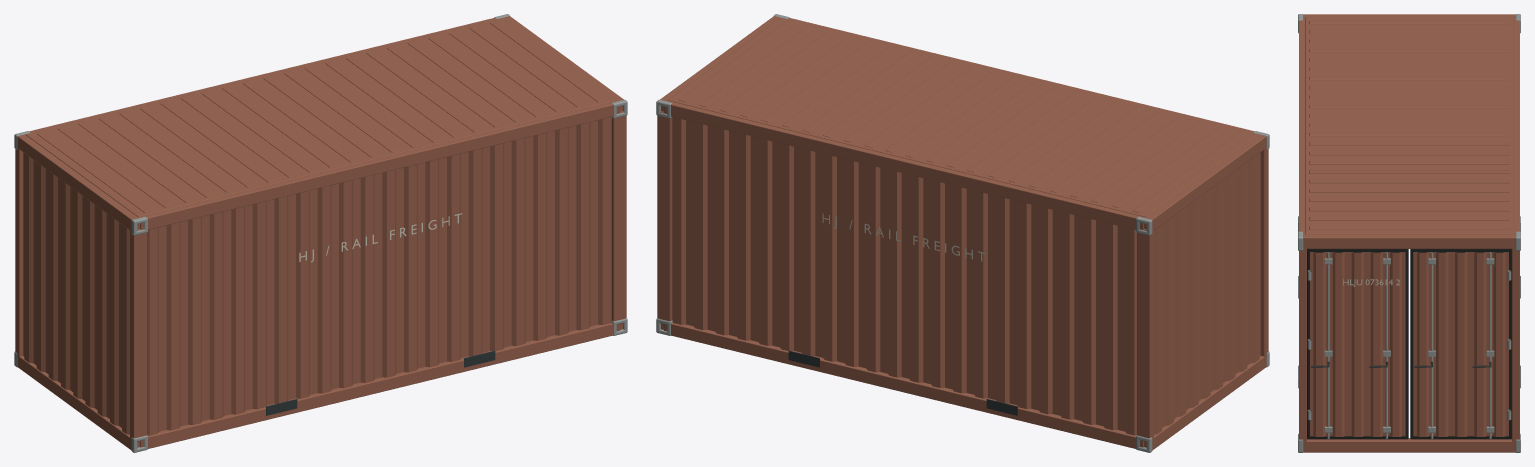
The model's file is freight_container.glb.
3 views of the same model, side by side, from view 1: azimuth 30°, elevation 25°; view 2: azimuth 150°, elevation 25°; view 3: azimuth 270°, elevation 25° (orthographic). The views are drawn at different scales.
Visible parts, largest first — view 1: freight_container; view 2: freight_container; view 3: freight_container.
Boxes of the visible parts, x1,y1,x2,y2 form: freight_container: (14, 14, 627, 452); freight_container: (656, 14, 1269, 452); freight_container: (1298, 14, 1520, 452).
Bounding box in the file's own units: 6.03 × 2.7 × 2.52.
